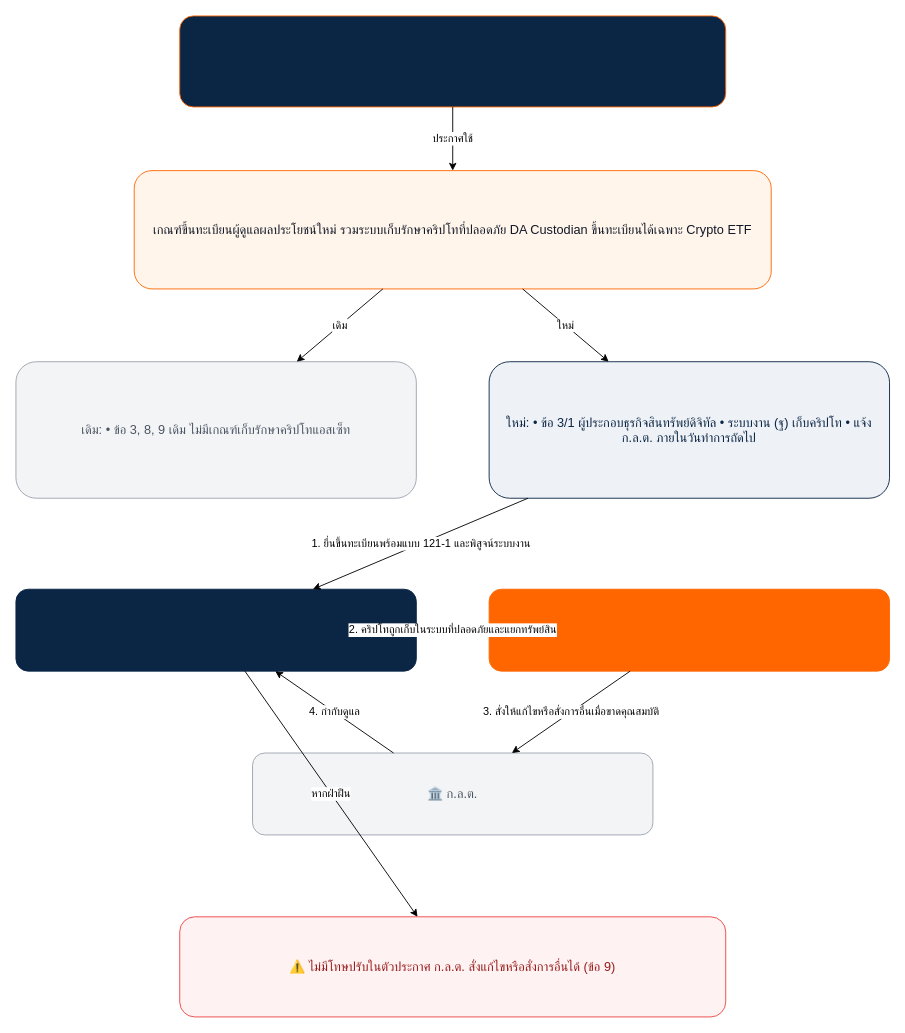
The diagram is 905 pixels wide and 1033 high, and some of its shapes have lost their labels. The centre of each missing label's shape, as x and y in pixels:
"สธ.20/2569 ขึ้นทะเบียนผู้ดูแลผลประโยชน์ Crypto ETF" belongs at point (452, 61).
"🏢 DA Custodian / ผู้ดูแลผลประโยชน์" belongs at point (215, 629).
"👤 ผู้ถือหน่วยลงทุน" belongs at point (689, 629).
